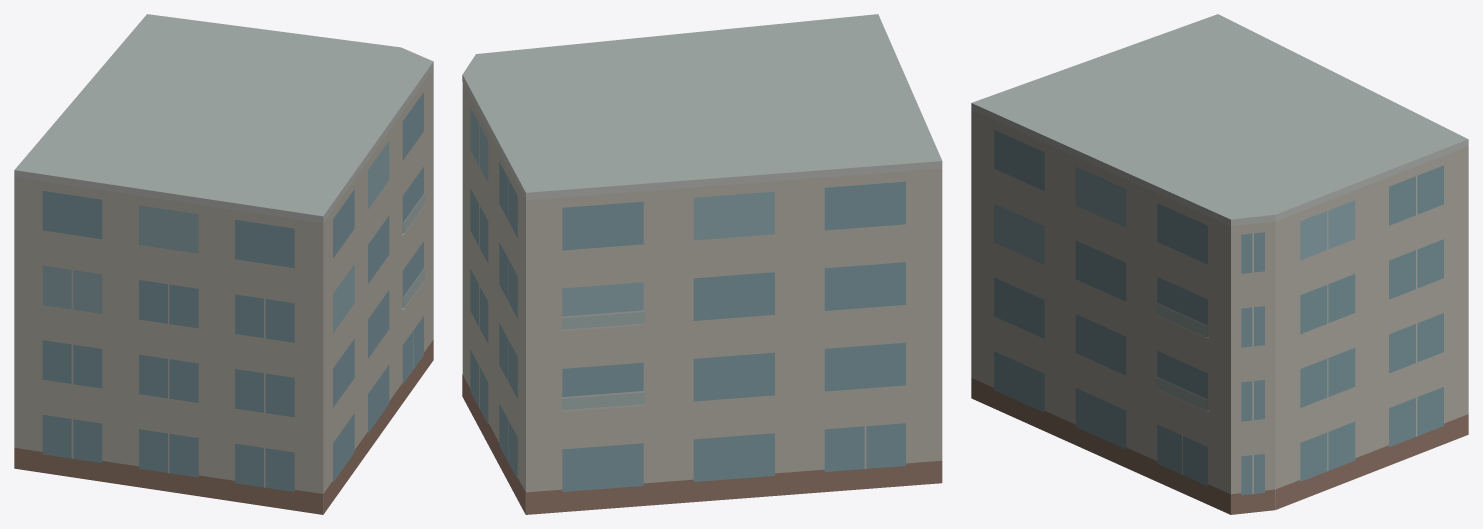
The model's file is survey-upis-33008789.glb.
The picture shows the model from 3 angles, left to right: view 1: azimuth 30°, elevation 25°; view 2: azimuth 150°, elevation 25°; view 3: azimuth 270°, elevation 25°; orthographic projection. The views are drawn at different scales.
Visible parts, largest first — view 1: survey-upis-33008789.tmp; view 2: survey-upis-33008789.tmp; view 3: survey-upis-33008789.tmp.
Boxes of the visible parts, x1,y1,x2,y2 form: survey-upis-33008789.tmp: (14,14,433,514); survey-upis-33008789.tmp: (462,14,942,514); survey-upis-33008789.tmp: (971,14,1468,514).
Size of the model in its own units: 15.98 by 10.7 by 16.34.
